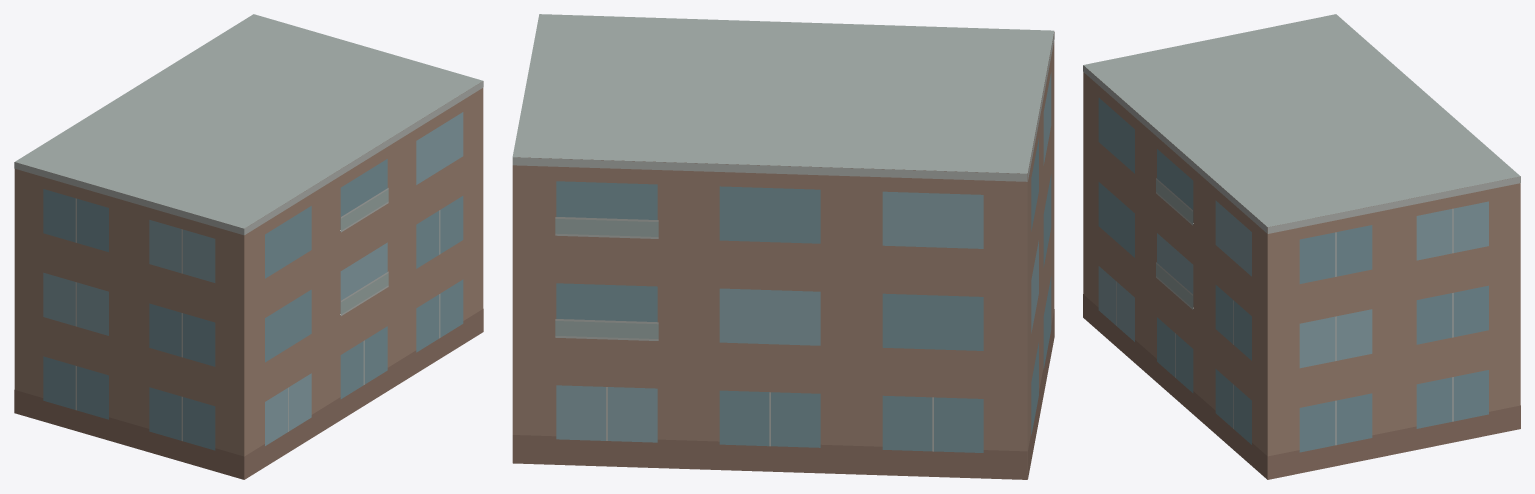
File: survey-upis-32708299.glb
The picture shows the model from 3 angles, left to right: view 1: azimuth 30°, elevation 25°; view 2: azimuth 150°, elevation 25°; view 3: azimuth 270°, elevation 25°; orthographic projection. The views are drawn at different scales.
Parts seen in each view (by area): view 1: survey-upis-32708299.tmp; view 2: survey-upis-32708299.tmp; view 3: survey-upis-32708299.tmp.
Part boxes in pixels (<box>): survey-upis-32708299.tmp: <box>14,14,483,479</box>; survey-upis-32708299.tmp: <box>512,14,1054,479</box>; survey-upis-32708299.tmp: <box>1083,14,1520,479</box>.
Size of the model in its own units: 16.58 by 9.15 by 14.38.
